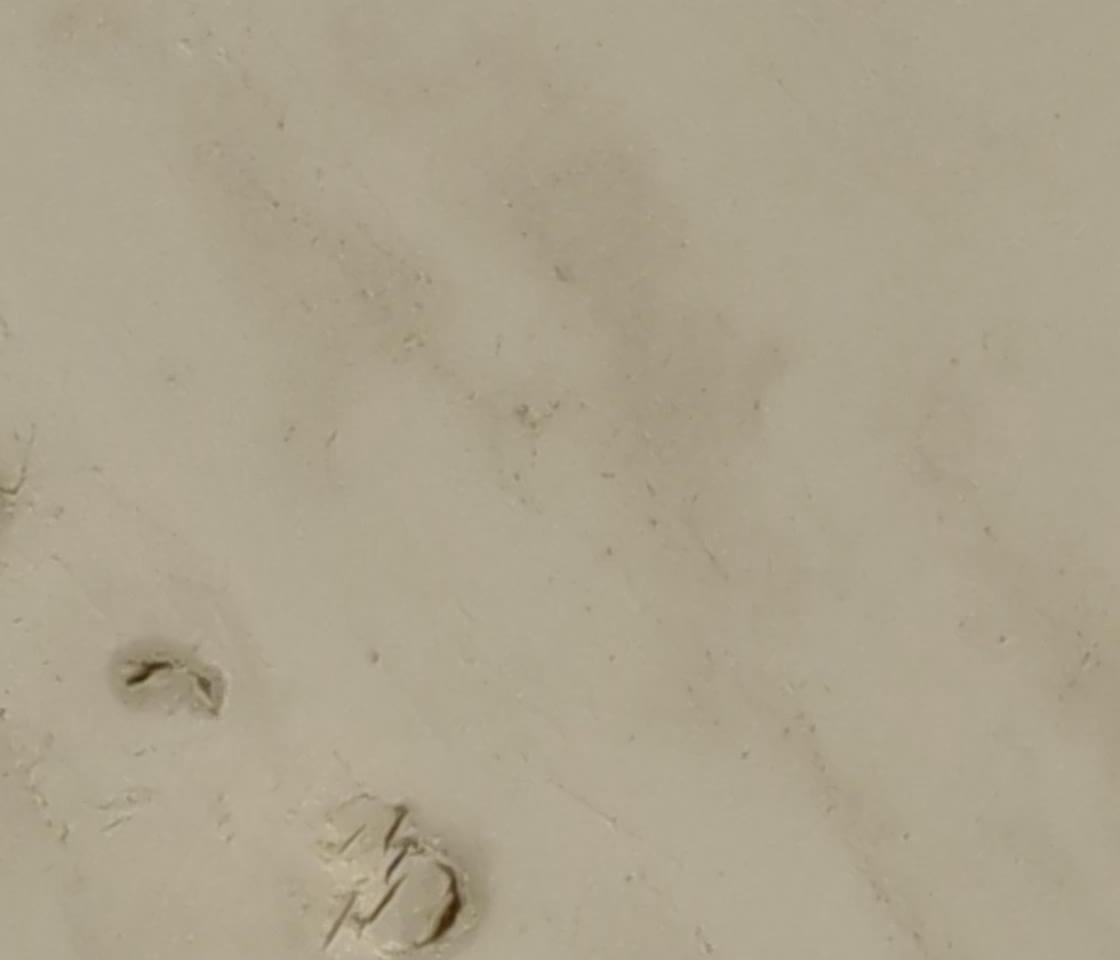scratch: (311, 887, 360, 949), (119, 656, 180, 696)
